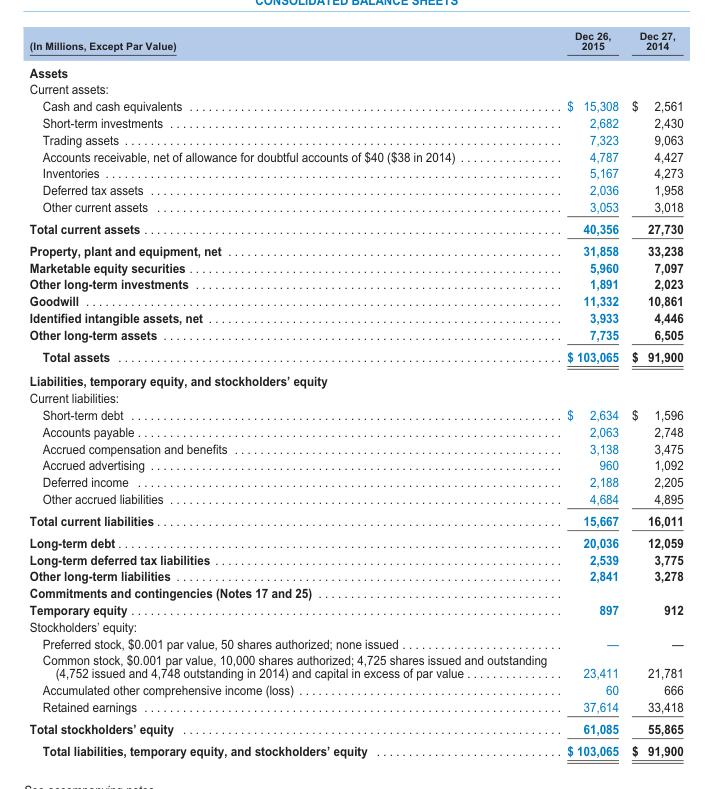table: (28, 29, 682, 757)
table column: (28, 29, 556, 757), (556, 29, 624, 757), (624, 29, 682, 757)
table column header: (28, 29, 682, 58)
table projected row header: (28, 58, 682, 80), (28, 368, 682, 389), (28, 80, 682, 97), (28, 617, 682, 634), (28, 389, 682, 405), (28, 584, 682, 600)
table row: (28, 651, 682, 681), (28, 29, 682, 58), (28, 345, 682, 368), (28, 58, 682, 80), (28, 217, 682, 239), (28, 509, 682, 531), (28, 717, 682, 739), (28, 368, 682, 389), (28, 197, 682, 217), (28, 325, 682, 345), (28, 489, 682, 509), (28, 697, 682, 717), (28, 239, 682, 258), (28, 531, 682, 550), (28, 739, 682, 757), (28, 80, 682, 97), (28, 113, 682, 130), (28, 130, 682, 147), (28, 147, 682, 164), (28, 164, 682, 181), (28, 258, 682, 275), (28, 275, 682, 292), (28, 308, 682, 325), (28, 405, 682, 422), (28, 422, 682, 439), (28, 439, 682, 456), (28, 456, 682, 473), (28, 550, 682, 567), (28, 567, 682, 584), (28, 600, 682, 617), (28, 617, 682, 634), (28, 634, 682, 651), (28, 97, 682, 113), (28, 181, 682, 197), (28, 292, 682, 308), (28, 389, 682, 405), (28, 473, 682, 489), (28, 584, 682, 600), (28, 681, 682, 697)
